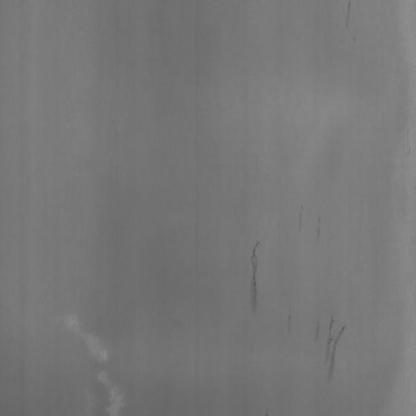water_spot: (237, 218, 269, 321), (318, 293, 348, 399)
